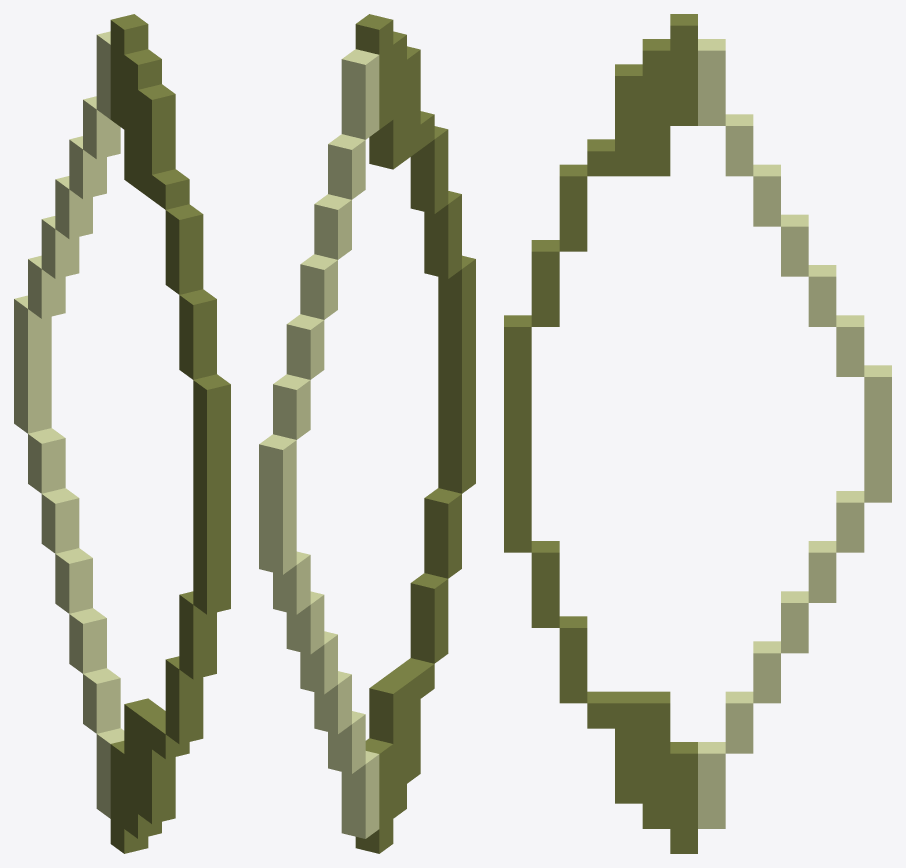
Rendered from zunko_Bow2.obj.
3 renders of one model, left to right at view 1: azimuth 30°, elevation 25°; view 2: azimuth 150°, elevation 25°; view 3: azimuth 270°, elevation 25°, orthographic.
Parts seen in each view (by area): view 1: zunko_Bow2; view 2: zunko_Bow2; view 3: zunko_Bow2.
Part boxes in pixels (x1,y1,x2,y2): zunko_Bow2: (14,14,230,853); zunko_Bow2: (259,14,475,853); zunko_Bow2: (504,14,891,853).
Size of the model in its own units: 1 by 33 by 14.
1 material, 1 textured.
